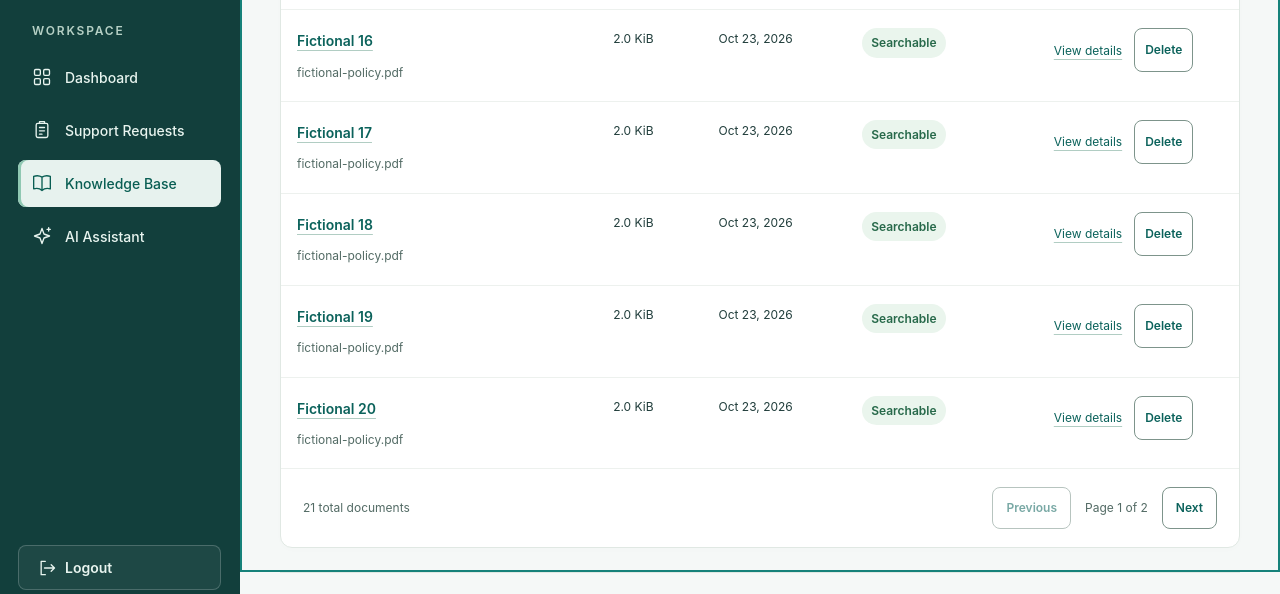
Test: Knowledge Base library › uses server pagination and recovers the last page after its last item is deleted
(page scrolled)
Click the button "Next": coordinates (1189, 508) [1162,487,1217,529]
(page scrolled)
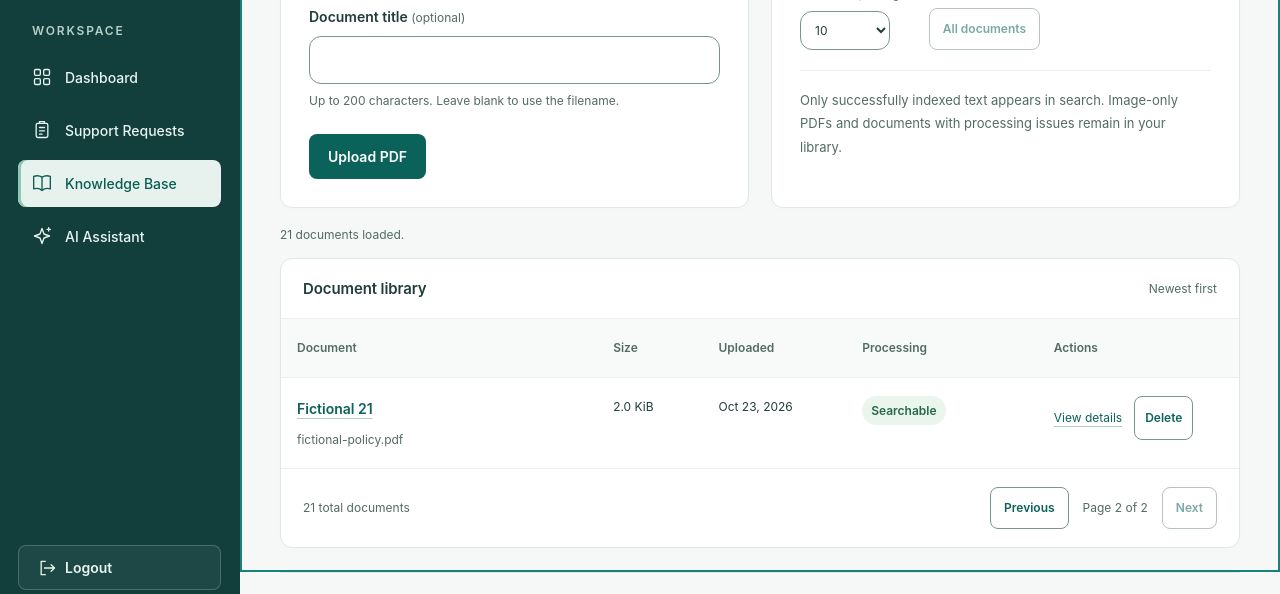
Now the text "Page 2 of 2" is shown, box [1083,500,1148,518]
Now the link "Fictional 21" is shown, box [297,400,373,417]
Click the button with aria-label "Delete Fictional 21": coordinates (1164, 418) [1134,396,1193,440]
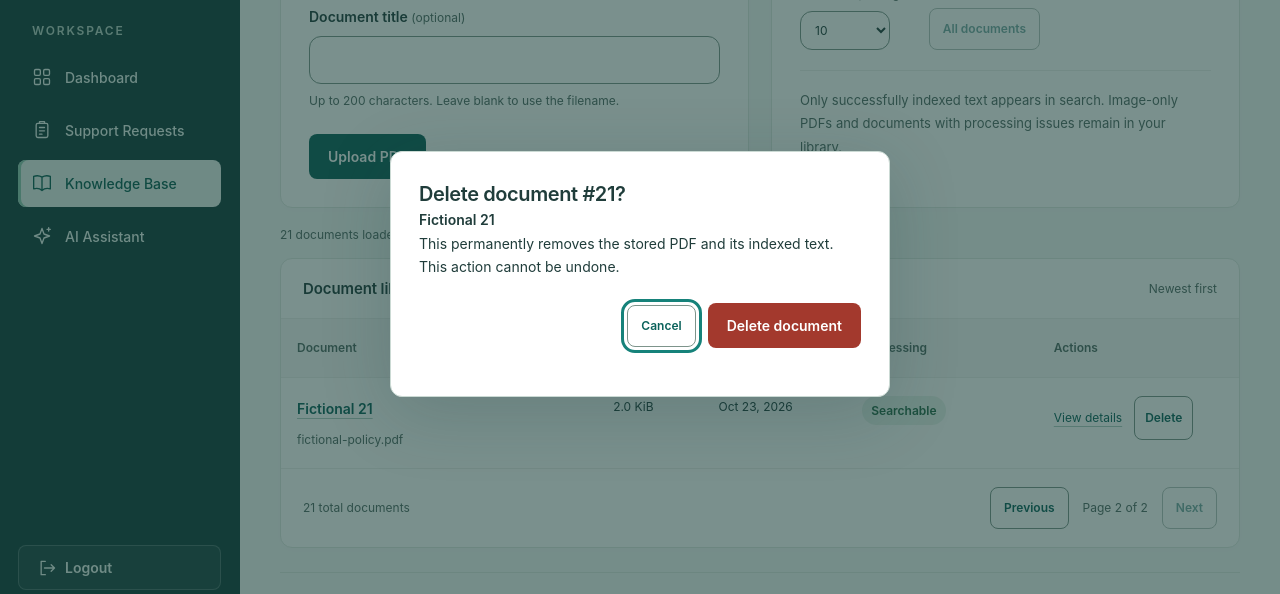
Click the button "Delete document": coordinates (784, 326) [708,303,861,348]
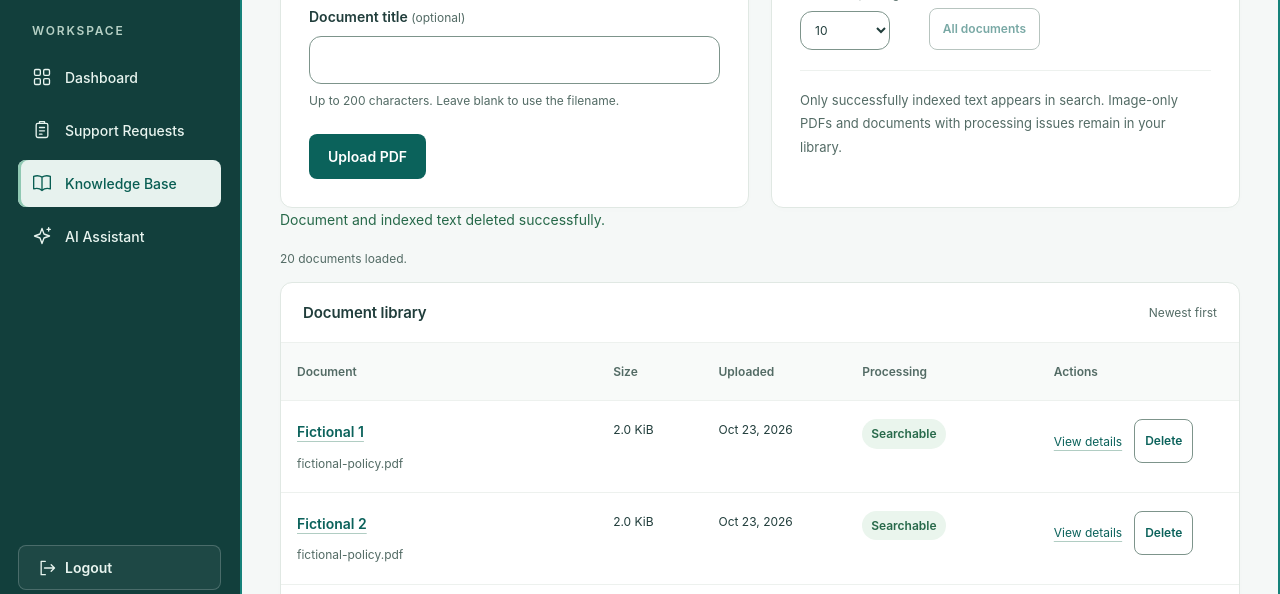
Now the text "Document and indexed text deleted successfully." is shown, box [280,211,605,228]
Now the link "Fictional 1" is shown, box [297,424,364,440]
Now the link "Fictional 21" is gone
